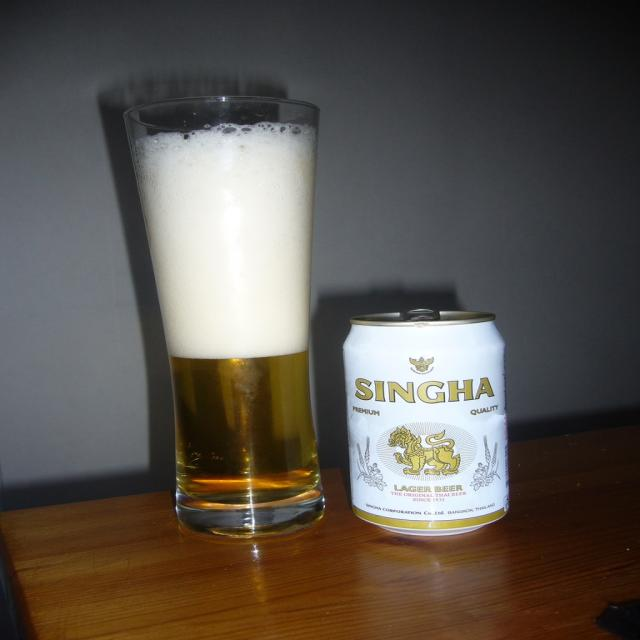singha: (346, 372, 508, 504)
